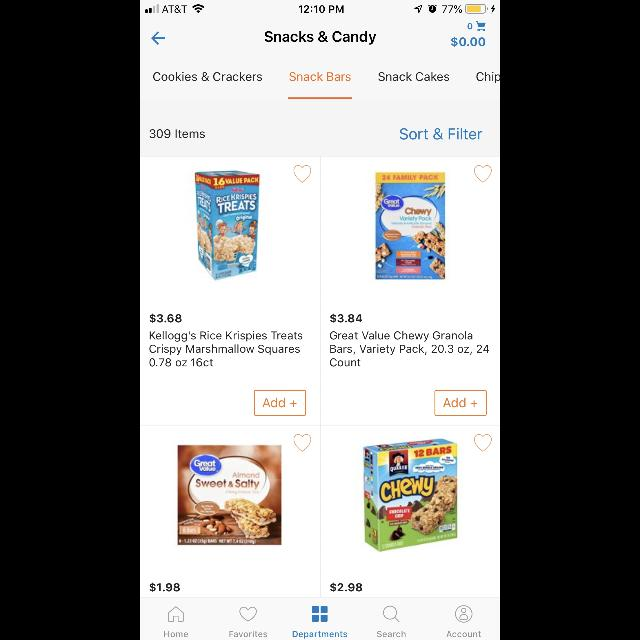icon: (294, 434, 312, 452), (474, 434, 492, 452), (294, 165, 312, 182), (474, 165, 492, 182), (382, 606, 400, 622), (168, 606, 184, 622), (240, 606, 256, 622), (312, 606, 328, 622), (456, 606, 472, 622), (152, 31, 166, 45), (475, 20, 485, 32)
image: (364, 438, 458, 552), (176, 445, 282, 545), (375, 172, 445, 280), (198, 171, 260, 281)
text: (150, 331, 302, 367), (330, 332, 490, 366), (264, 31, 376, 45), (154, 72, 262, 82), (400, 128, 482, 140), (378, 72, 449, 82), (290, 72, 350, 82), (150, 130, 206, 138), (292, 631, 348, 639), (451, 36, 485, 48), (150, 313, 182, 323), (330, 313, 362, 323), (330, 582, 362, 592), (229, 630, 267, 638), (150, 582, 180, 592), (476, 72, 500, 84), (376, 630, 406, 638), (446, 631, 482, 637), (165, 631, 189, 637), (468, 23, 472, 29)
textbutton: (254, 390, 306, 416), (435, 390, 487, 416)
uppertaskbar: (140, 0, 500, 14)
